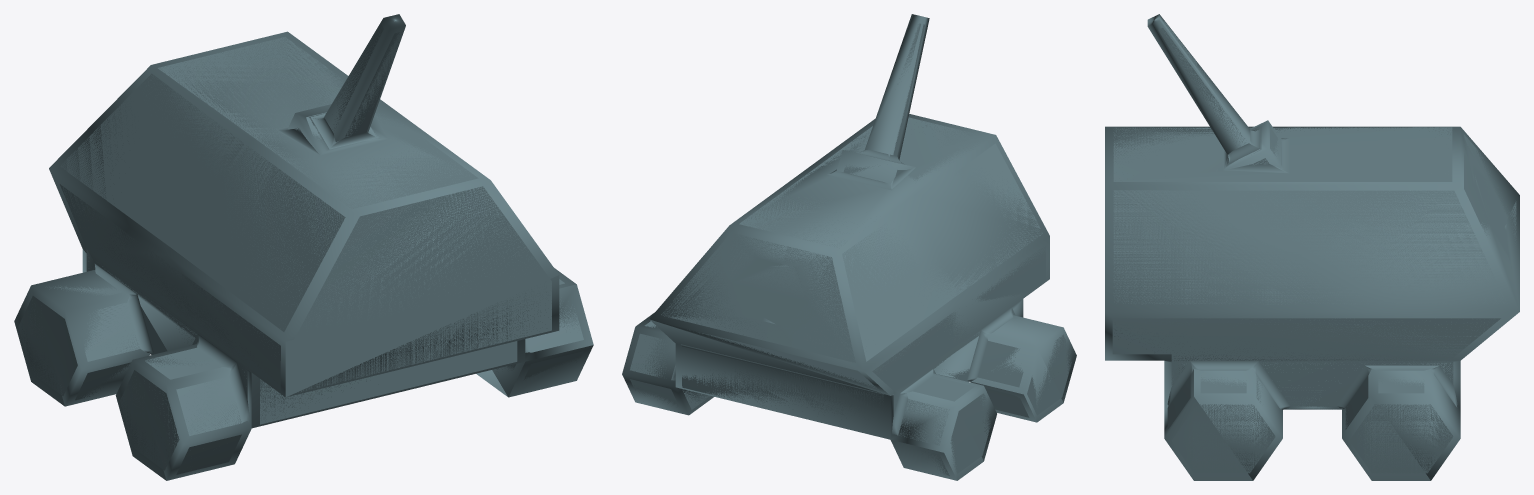
Rendered from space-kit__rover.glb.
The picture shows the model from 3 angles, left to right: view 1: azimuth 30°, elevation 25°; view 2: azimuth 150°, elevation 25°; view 3: azimuth 270°, elevation 25°; orthographic projection. The views are drawn at different scales.
Parts seen in each view (by area): view 1: L0_dark, L1_dark; view 2: L1_dark, L0_dark; view 3: L0_dark, L1_dark.
Part boxes in pixels (x1,y1,x2,y2): L0_dark: (18,21,583,474); L1_dark: (14,14,593,480); L1_dark: (622,14,1076,480); L0_dark: (630,23,1071,475); L0_dark: (1112,21,1516,473); L1_dark: (1105,14,1519,480).
Size of the model in its own units: 1 by 1 by 1.
